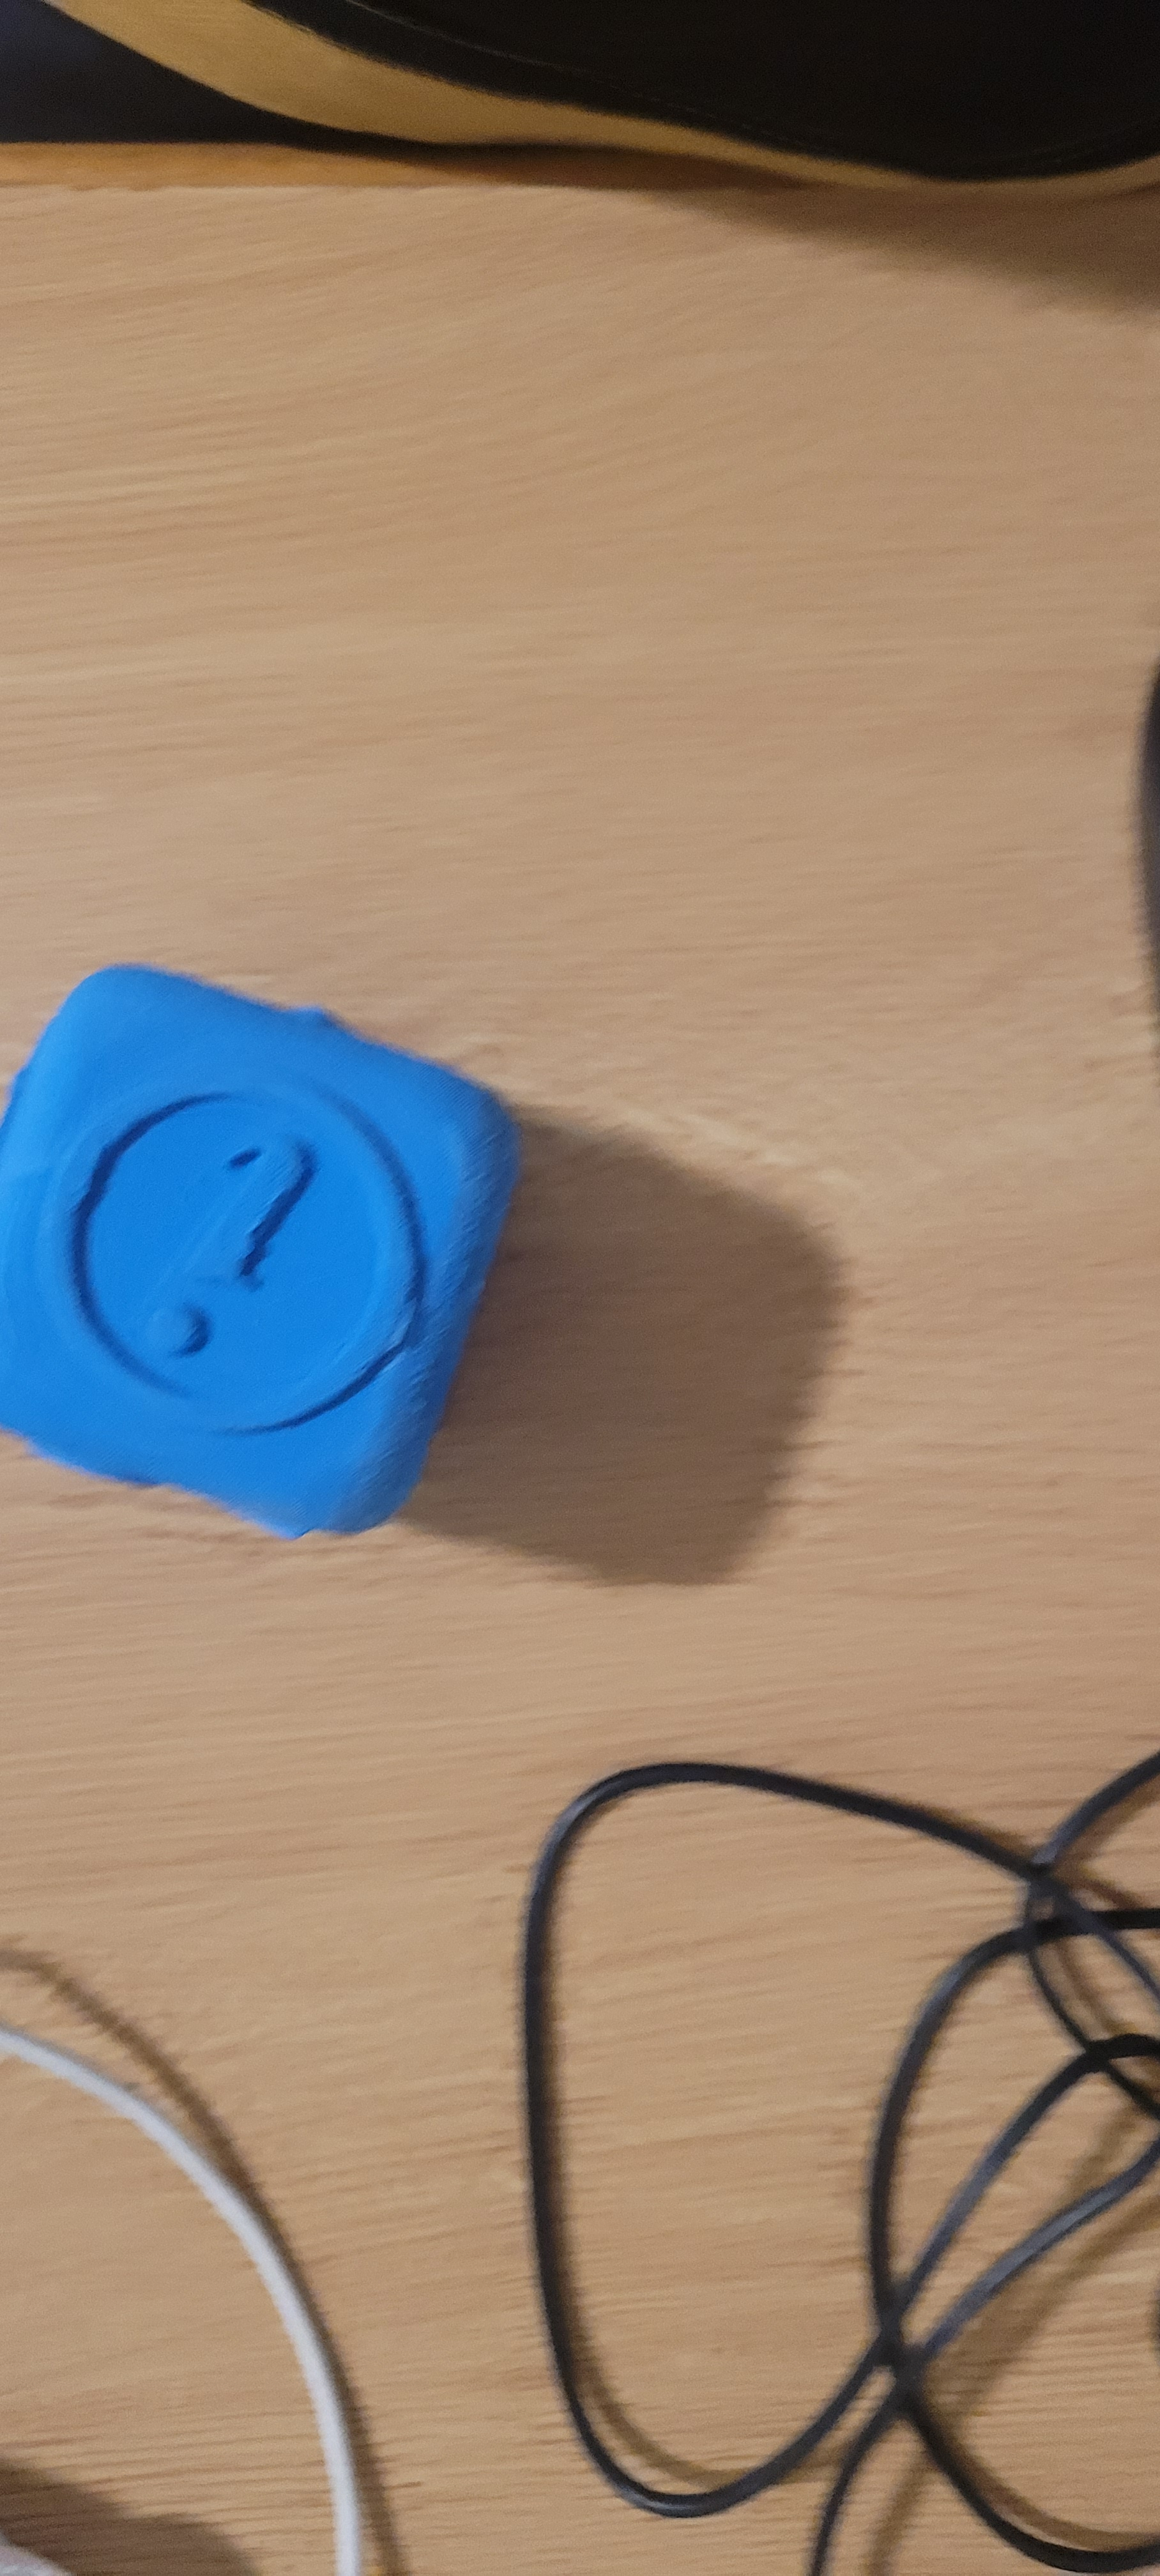Info: (0, 1040, 483, 1411)
